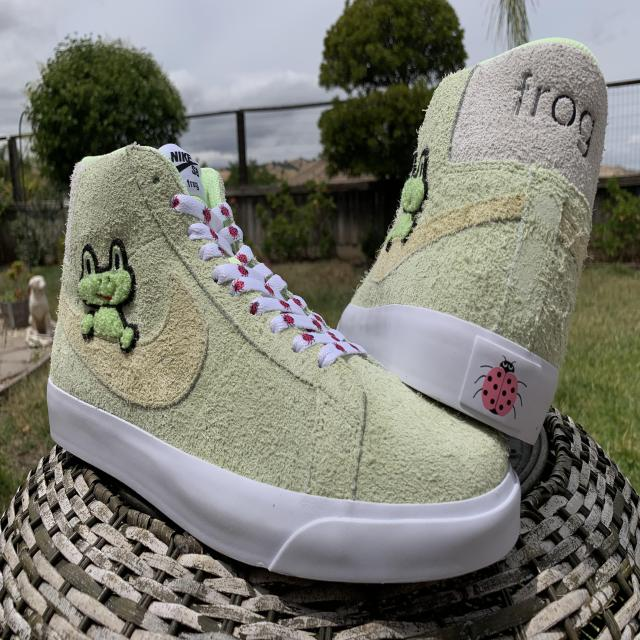shoes: (46, 146, 520, 576), (366, 40, 610, 448)
